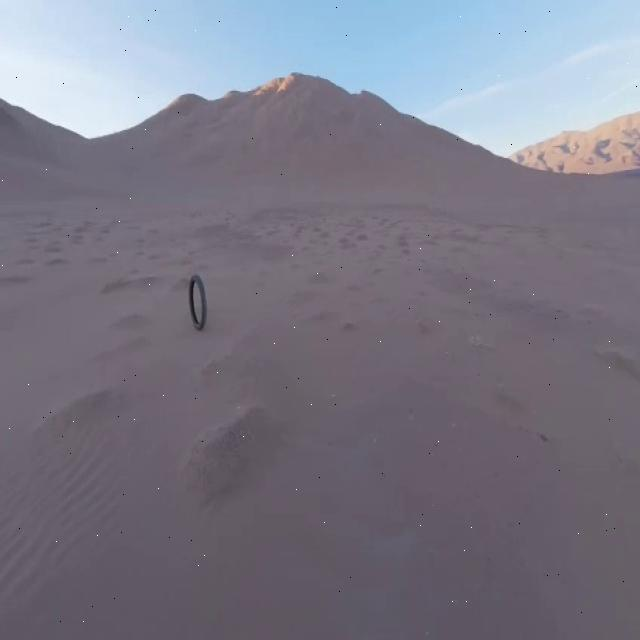Tire: (189, 276, 207, 329)
